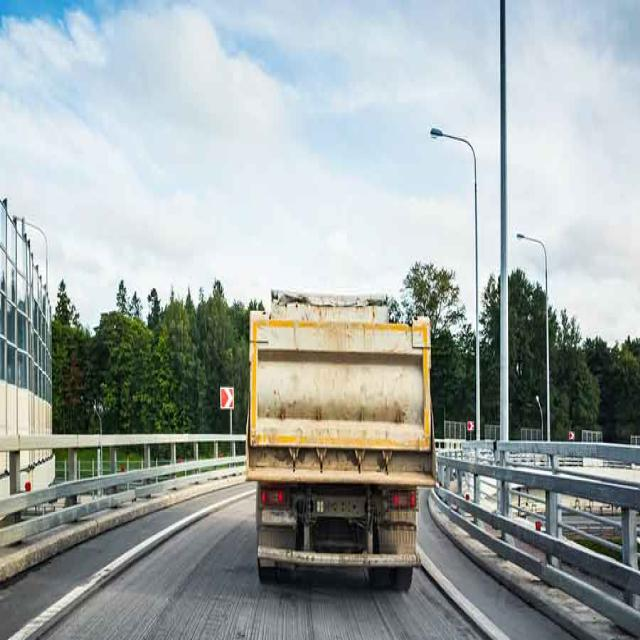truck: (246, 292, 435, 587)
